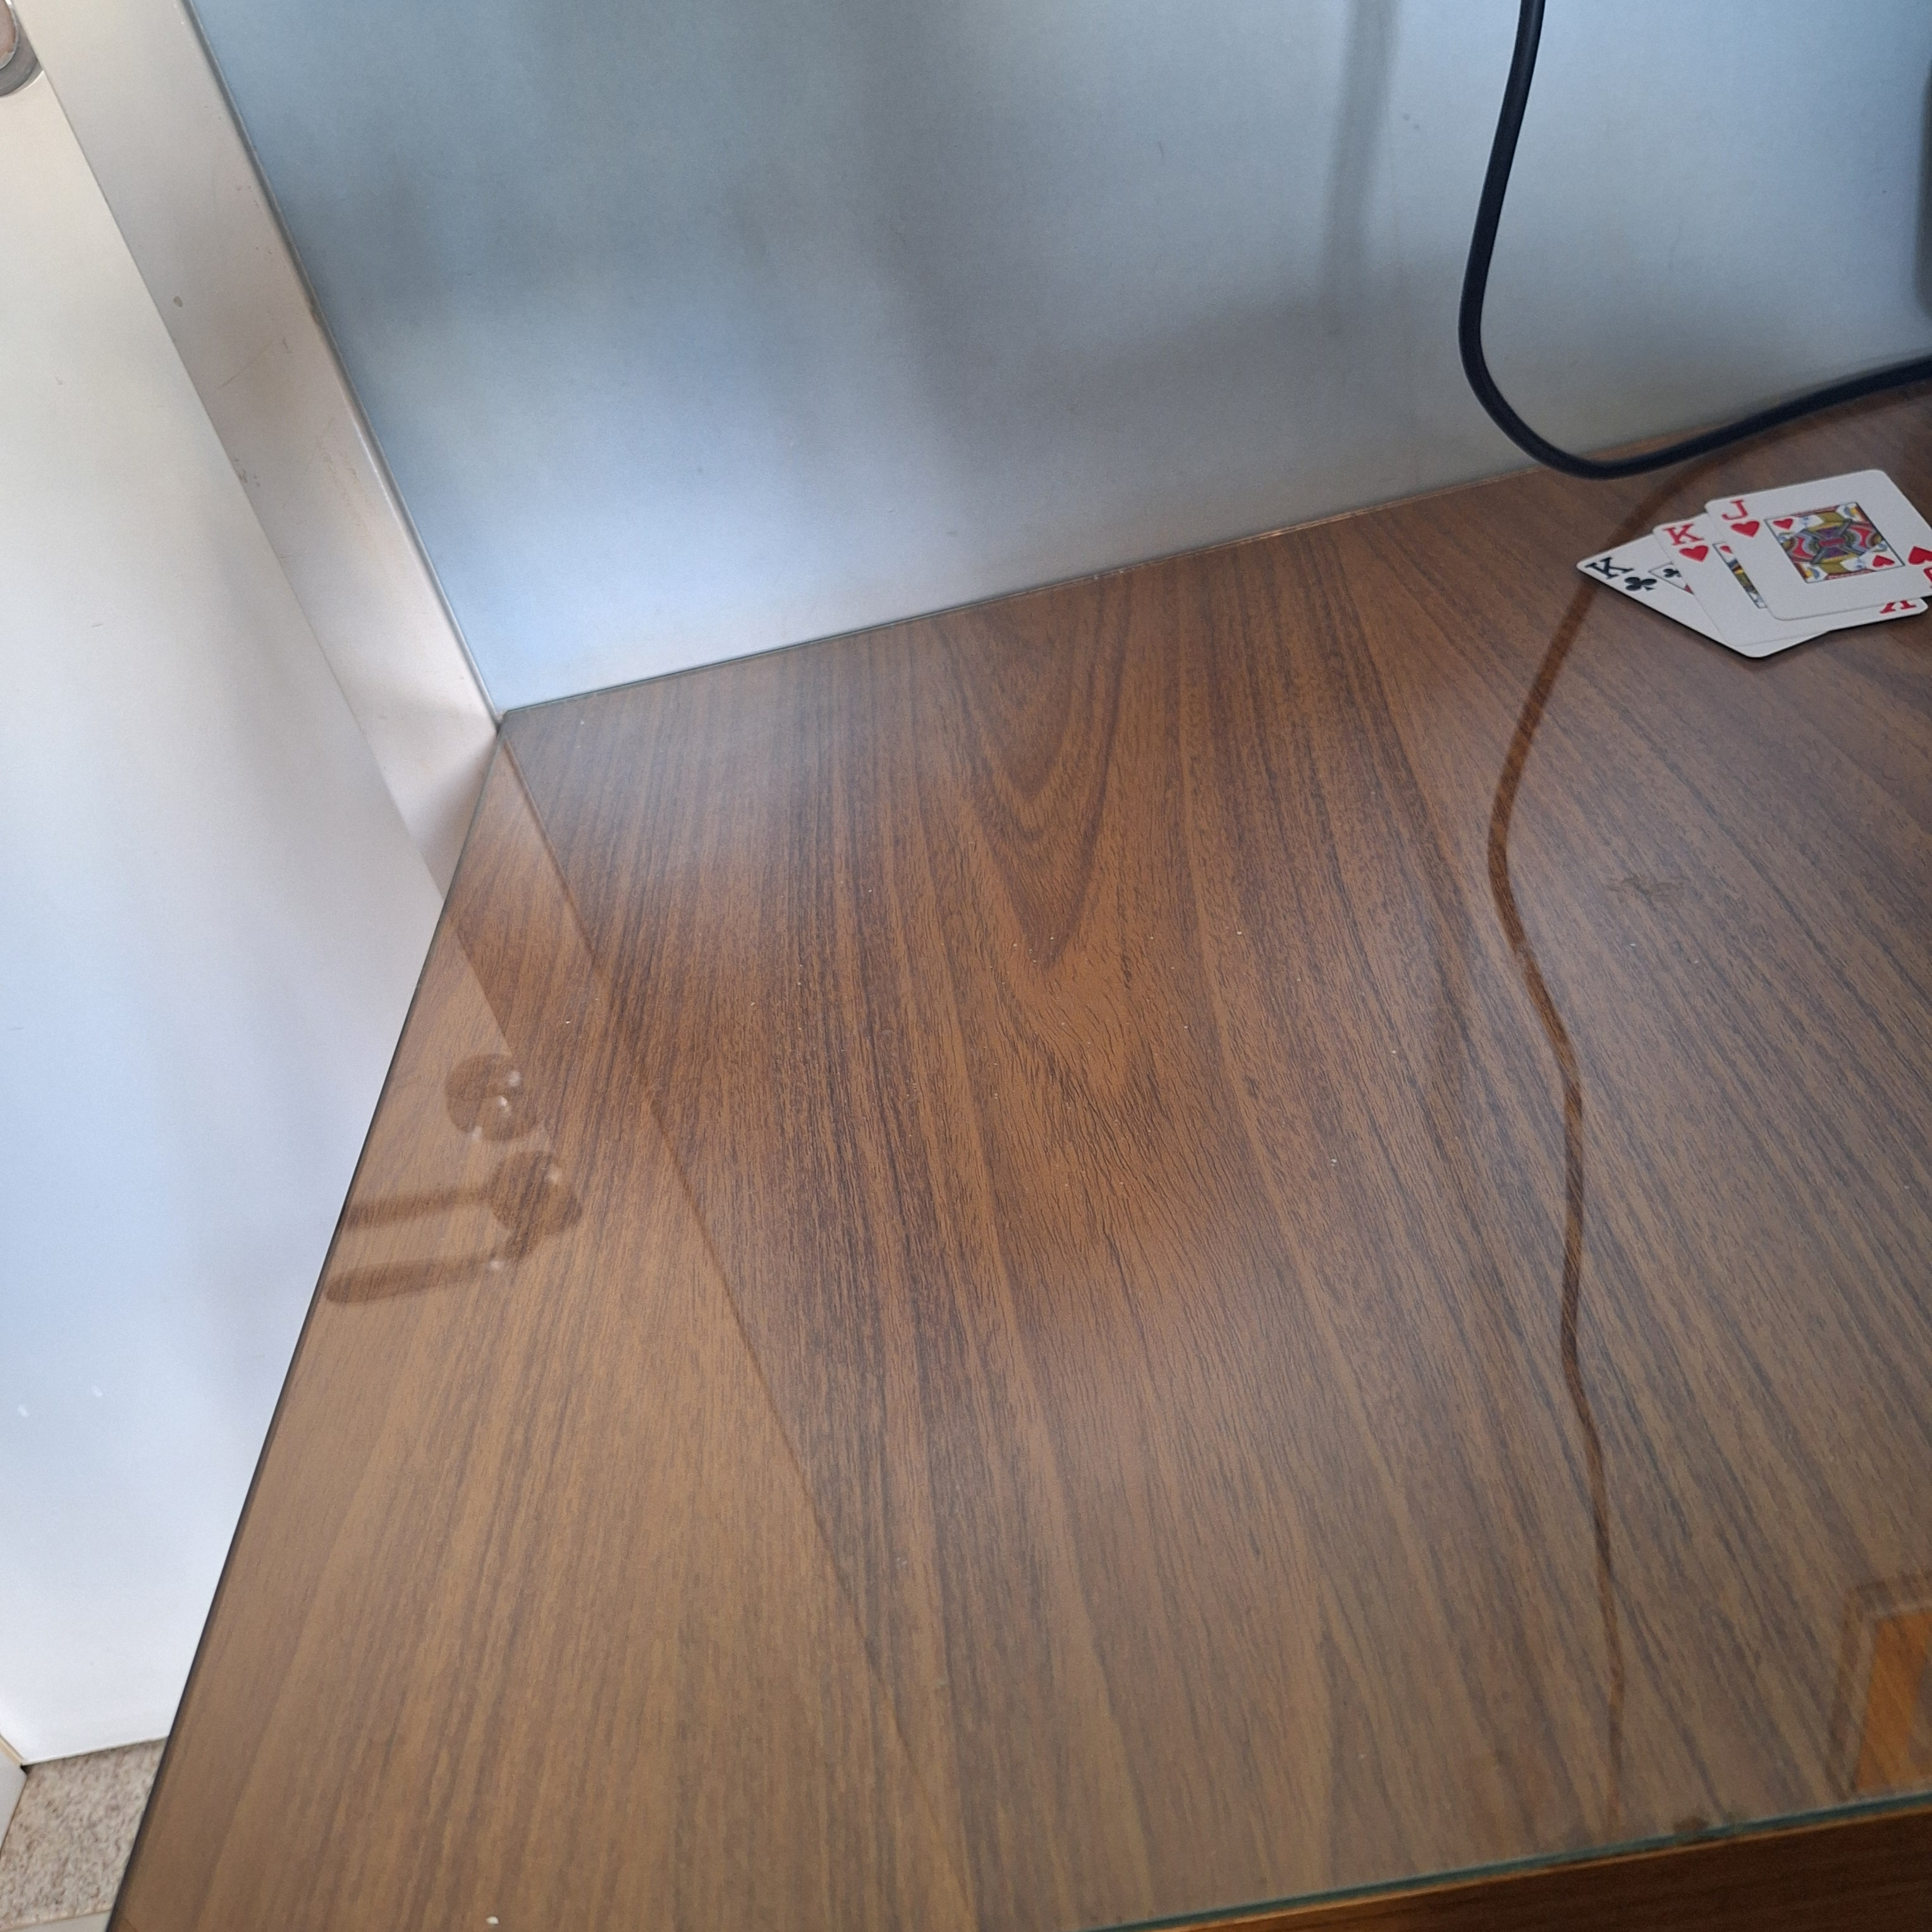JC: (1711, 494, 1767, 548)
KC: (1658, 517, 1718, 564)
KP: (1576, 547, 1663, 607)
